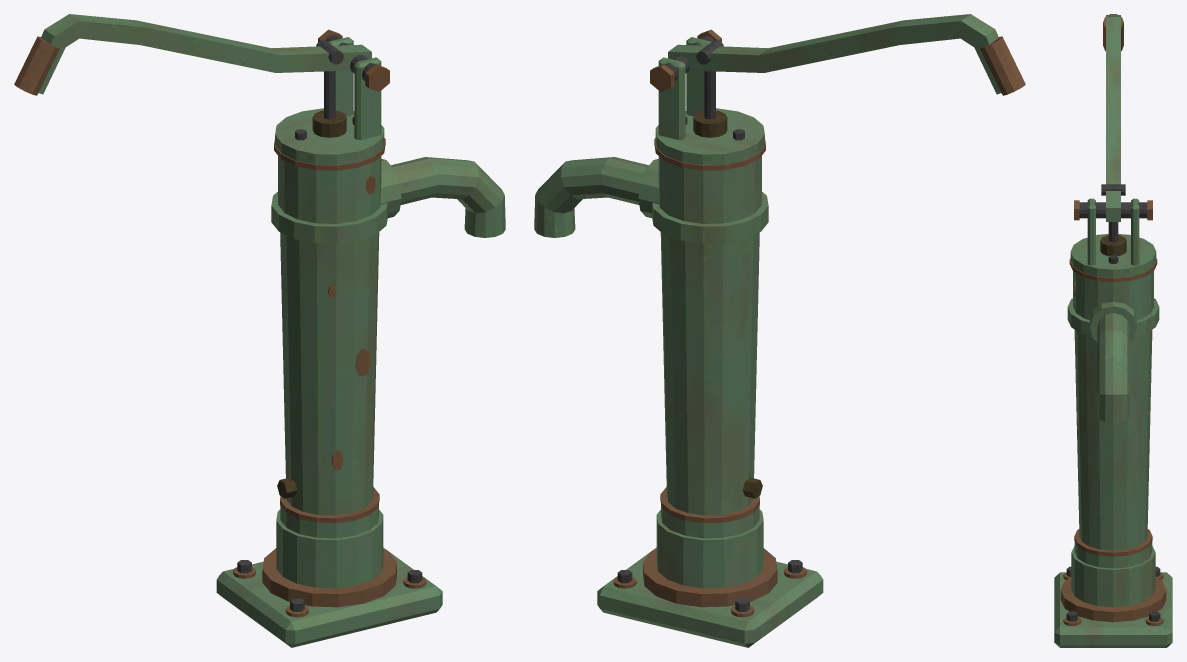
The model's file is W16_hand_pump.glb.
3 views of the same model, side by side, from view 1: azimuth 30°, elevation 25°; view 2: azimuth 150°, elevation 25°; view 3: azimuth 270°, elevation 25° (orthographic). The views are drawn at different scales.
Visible parts, largest first — view 1: Cast rectangular mounting foot; view 2: Cast rectangular mounting foot; view 3: Cast rectangular mounting foot.
Part boxes in pixels (x1,y1,x2,y2): Cast rectangular mounting foot: [14, 14, 505, 647]; Cast rectangular mounting foot: [534, 14, 1025, 647]; Cast rectangular mounting foot: [1054, 14, 1172, 647].
Size of the model in its own units: 0.9404 by 1.2 by 0.2536.
Materials: 5 (5 with a texture image).
